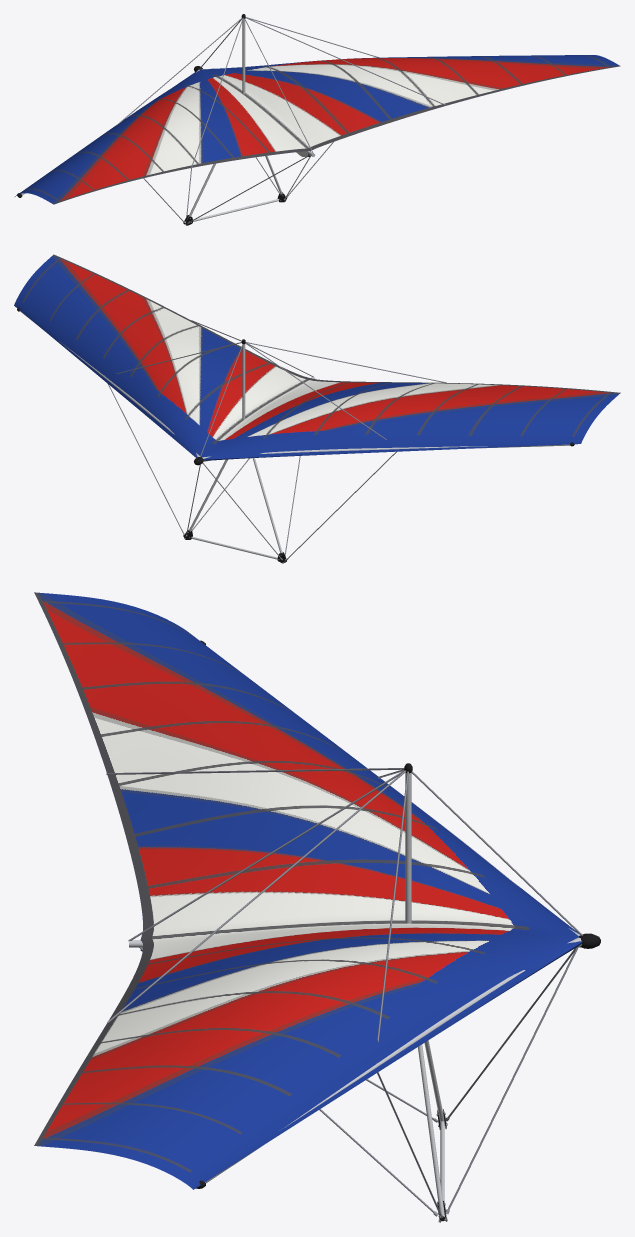
Rendered from glider_slavutich_ut.glb.
The picture shows the model from 3 angles, top to bottom: view 1: azimuth 30°, elevation 25°; view 2: azimuth 150°, elevation 25°; view 3: azimuth 270°, elevation 25°; orthographic projection. The views are drawn at different scales.
Visible parts, largest first — view 1: Sail, Frame, ControlFrame; view 2: Sail, Frame, ControlFrame; view 3: Sail, Frame, ControlFrame.
Part boxes in pixels (bbox=[...]): Sail: bbox=[15, 55, 620, 204]; Frame: bbox=[17, 14, 446, 197]; ControlFrame: bbox=[143, 142, 333, 225]; Sail: bbox=[14, 254, 620, 460]; Frame: bbox=[17, 307, 574, 465]; ControlFrame: bbox=[107, 383, 396, 563]; Sail: bbox=[34, 592, 582, 1189]; Frame: bbox=[106, 640, 600, 1188]; ControlFrame: bbox=[139, 947, 578, 1222].
Bounding box in the file's own units: 8.81 × 3.06 × 3.81.
7 materials, 1 textured.
